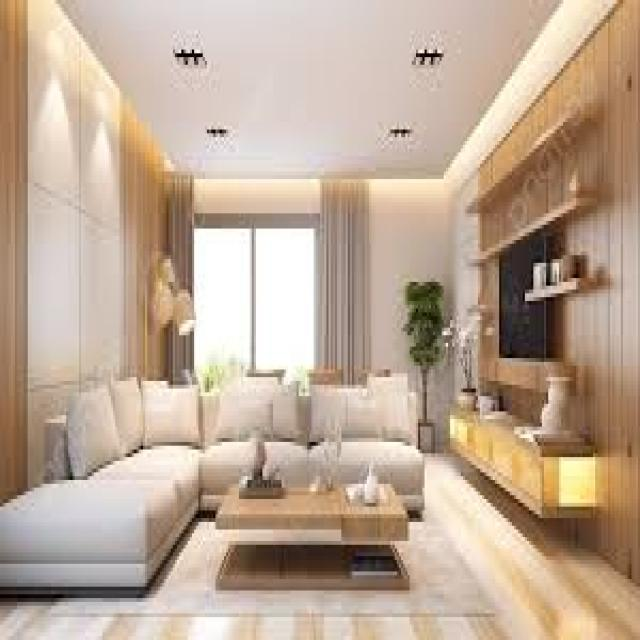Sofa: (1, 364, 427, 587)
Table: (215, 476, 411, 594)
tv: (496, 228, 551, 368)
window: (167, 177, 362, 354)
